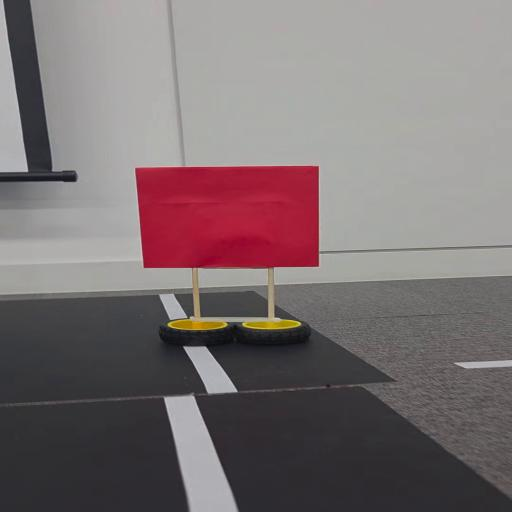Sign_A: (122, 163, 333, 361)
